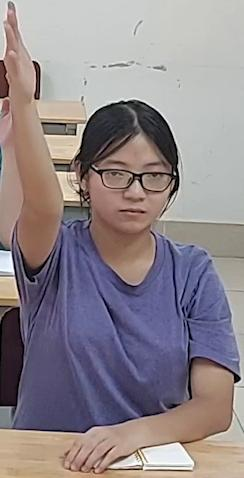Raising_Hand: (3, 2, 237, 464)
